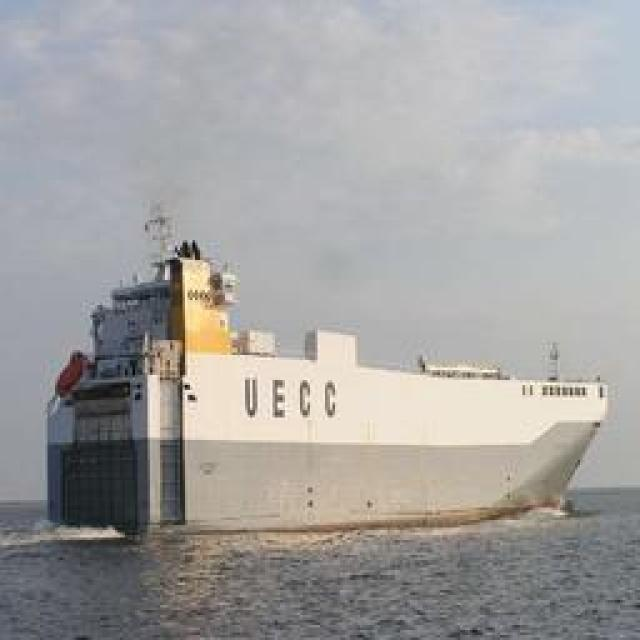CIV_Ship: (44, 252, 602, 536)
